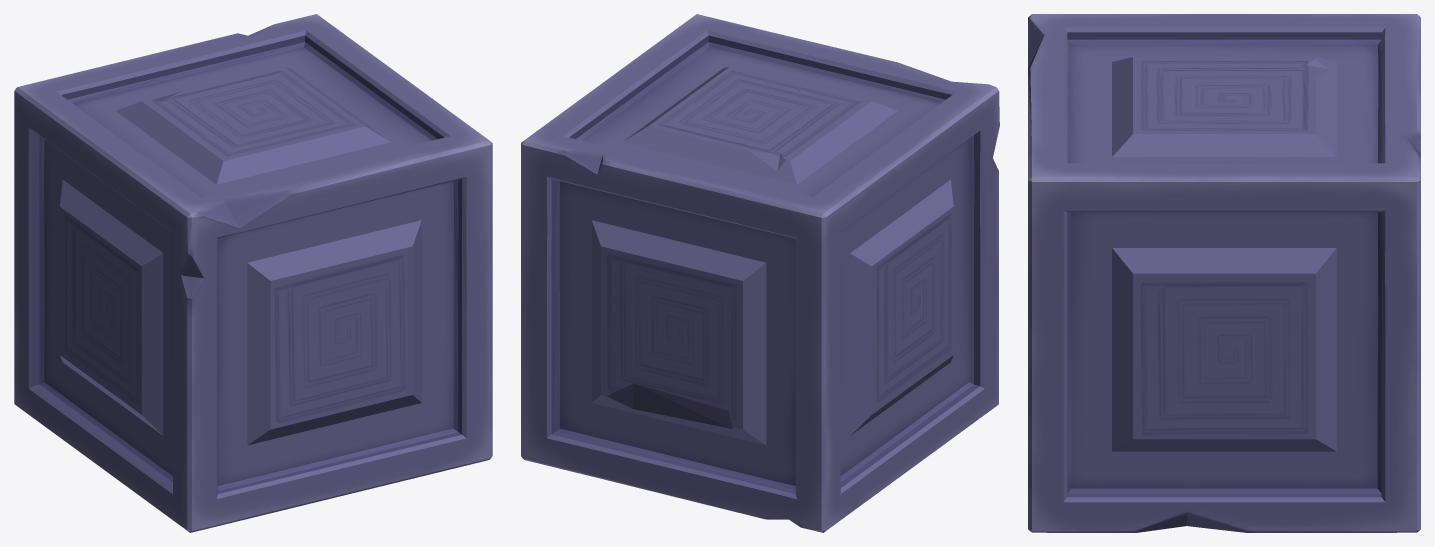
File: PuzzelBoxPurple.obj
3 renders of one model, left to right at view 1: azimuth 30°, elevation 25°; view 2: azimuth 150°, elevation 25°; view 3: azimuth 270°, elevation 25°, orthographic. The views are drawn at different scales.
Visible parts, largest first — view 1: Puzzlebox_20220502:pCube1; view 2: Puzzlebox_20220502:pCube1; view 3: Puzzlebox_20220502:pCube1.
Boxes of the visible parts, box(x1,y1,x2,y2) form: Puzzlebox_20220502:pCube1: box(14, 14, 492, 532); Puzzlebox_20220502:pCube1: box(521, 14, 999, 532); Puzzlebox_20220502:pCube1: box(1028, 14, 1420, 532).
Bounding box in the file's own units: 3 × 3 × 3.
